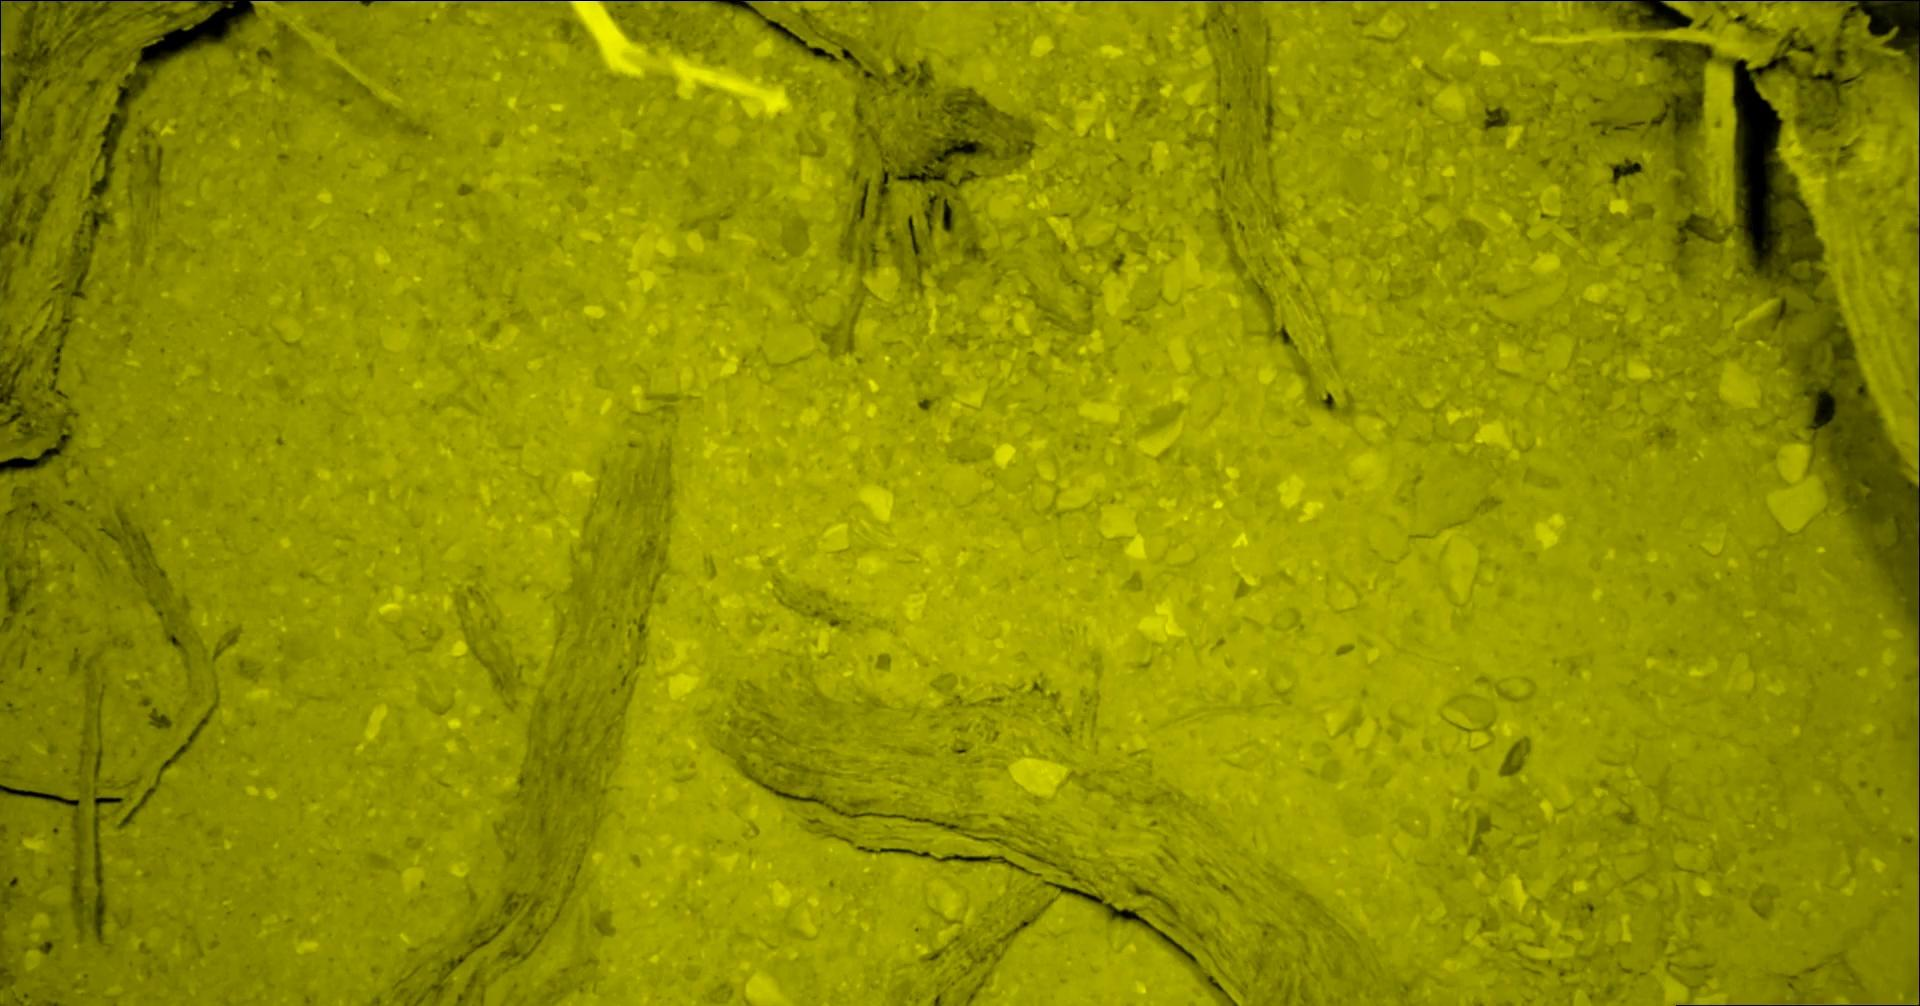ant: (0, 0, 157, 33), (1917, 547, 1919, 653), (1583, 0, 1636, 1)
